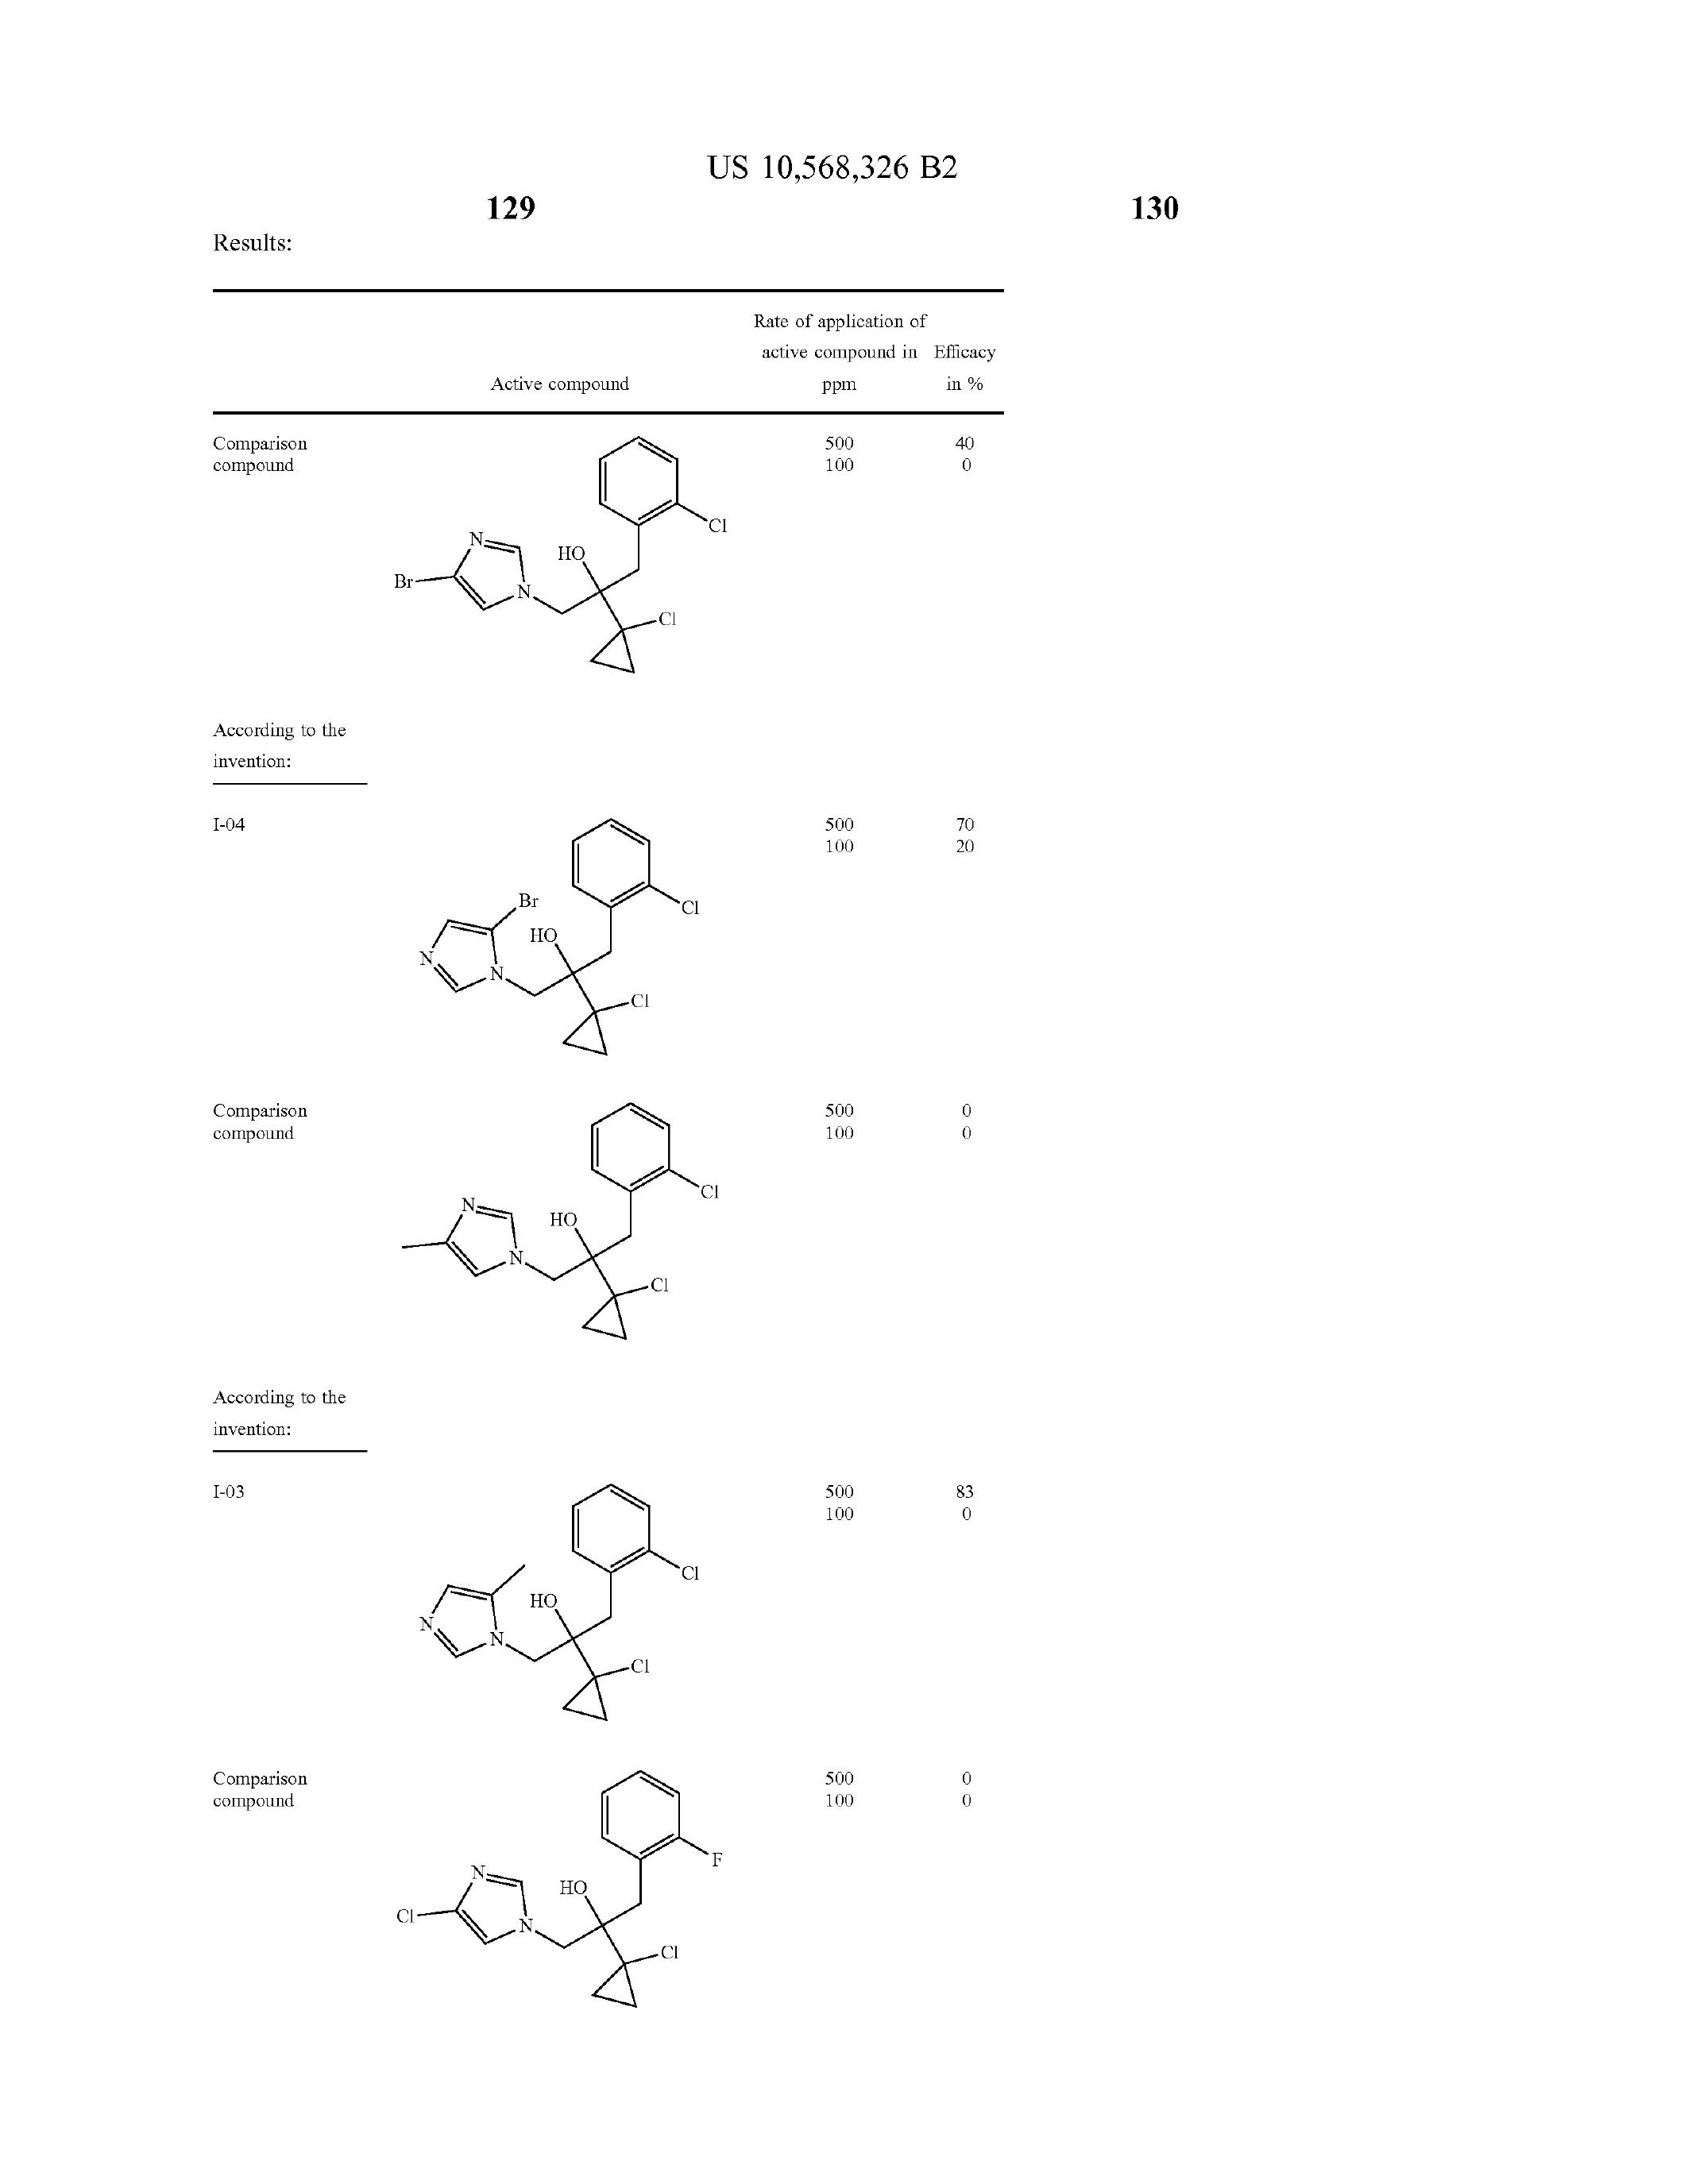relevant-structures: (332, 1741, 826, 2079), (387, 1090, 764, 1408), (378, 415, 739, 734), (362, 1448, 766, 1727), (365, 815, 782, 1065)
